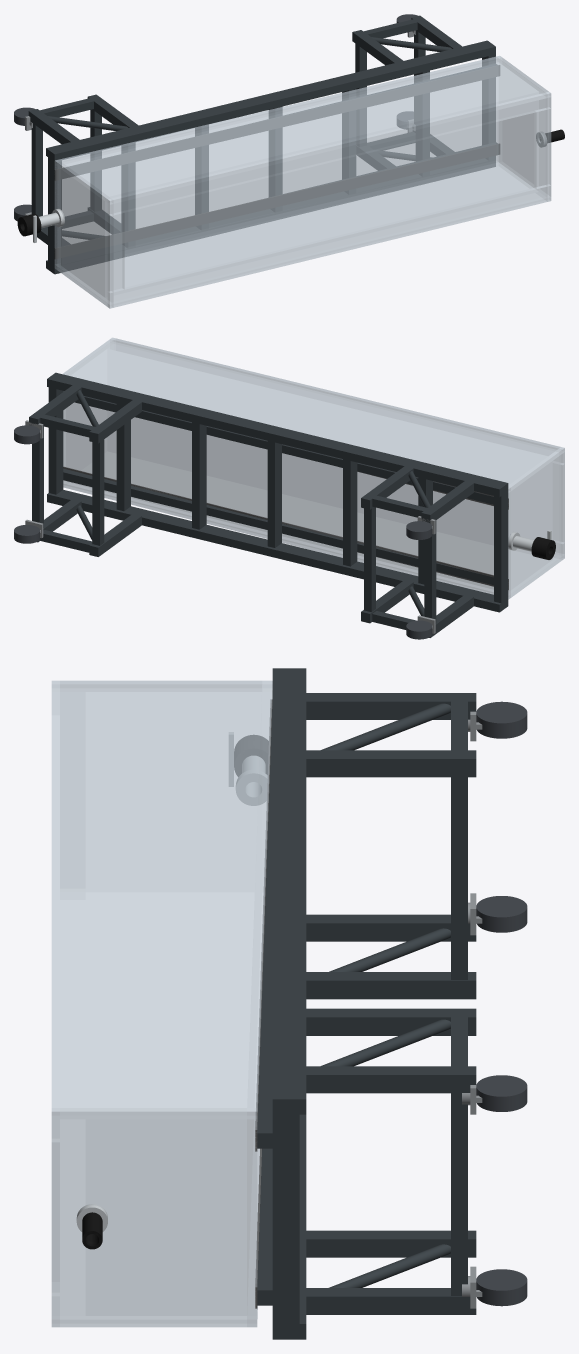
File: USSL.glb
3 views of the same model, one above another, from view 1: azimuth 30°, elevation 25°; view 2: azimuth 150°, elevation 25°; view 3: azimuth 270°, elevation 25° (orthographic). The views are drawn at different scales.
Visible parts, largest first — view 1: Water_Operating_Level_Approx_954L, Tank_Long_Wall_Back_25mm, Tank_Long_Wall_Front_25mm, Tank_Bottom_Sloped_30mm, Top_Flange_Back, Top_Flange_Front, Top_Rail_Right, Tank_End_Wall_Low_25mm, Top_Rail_Left, Neoprene_Support_Pad_1, Neoprene_Support_Pad_2, Tank_End_Wall_High_25mm (+24 smaller); view 2: Water_Operating_Level_Approx_954L, Tank_Bottom_Sloped_30mm, Tank_Long_Wall_Back_25mm, Top_Rail_Right, Top_Rail_Left, Tank_End_Wall_Low_25mm, Top_Flange_Back, Sloped_Support_Rail_1, Sloped_Support_Rail_2, Tank_Long_Wall_Front_25mm, Top_Crossmember_1, Top_Crossmember_4 (+29 smaller); view 3: Water_Operating_Level_Approx_954L, Tank_Long_Wall_Back_25mm, Tank_End_Wall_High_25mm, Top_Rail_Right, Tank_Long_Wall_Front_25mm, Tank_End_Wall_Low_25mm, Tank_Bottom_Sloped_30mm, Top_Crossmember_7, End_Frame_Post_2_2, End_Frame_Post_4_2, End_Frame_Post_2_1, End_Frame_Post_4_1 (+23 smaller).
Part boxes in pixels (x1,y1,x2,y2): Water_Operating_Level_Approx_954L: (61,63,538,296); Tank_Long_Wall_Back_25mm: (55,56,550,204); Tank_Long_Wall_Front_25mm: (55,163,550,308); Tank_Bottom_Sloped_30mm: (55,56,501,269); Top_Flange_Back: (108,92,550,215); Top_Flange_Front: (108,185,550,308); Top_Rail_Right: (46,40,495,161); Tank_End_Wall_Low_25mm: (55,160,113,307); Top_Rail_Left: (46,158,495,274); Neoprene_Support_Pad_1: (54,144,499,259); Neoprene_Support_Pad_2: (54,65,499,180); Tank_End_Wall_High_25mm: (496,56,550,201); Water_Operating_Level_Approx_954L: (66,349,552,589); Tank_Bottom_Sloped_30mm: (63,402,510,597); Tank_Long_Wall_Back_25mm: (63,338,564,492); Top_Rail_Right: (47,372,508,497); Top_Rail_Left: (47,489,508,612); Tank_End_Wall_Low_25mm: (508,447,564,598); Top_Flange_Back: (110,338,564,464); Sloped_Support_Rail_1: (63,468,493,585); Sloped_Support_Rail_2: (63,391,493,504); Tank_Long_Wall_Front_25mm: (63,482,564,598); Top_Crossmember_1: (494,481,508,610); Top_Crossmember_4: (267,428,281,547); Water_Operating_Level_Approx_954L: (86,692,261,1315); Tank_Long_Wall_Back_25mm: (52,681,272,1118); Tank_End_Wall_High_25mm: (52,1108,256,1326); Top_Rail_Right: (272,668,306,1114); Tank_Long_Wall_Front_25mm: (52,900,259,1326); Tank_End_Wall_Low_25mm: (52,681,272,888); Tank_Bottom_Sloped_30mm: (247,681,272,1326); Top_Crossmember_7: (272,1092,299,1339); End_Frame_Post_2_2: (306,750,476,777); End_Frame_Post_4_2: (306,1066,476,1093); End_Frame_Post_2_1: (306,972,476,999); End_Frame_Post_4_1: (306,1288,476,1314).
Size of the model in its own units: 3.4 by 0.78 by 1.4.
69 materials, 2 textured.
